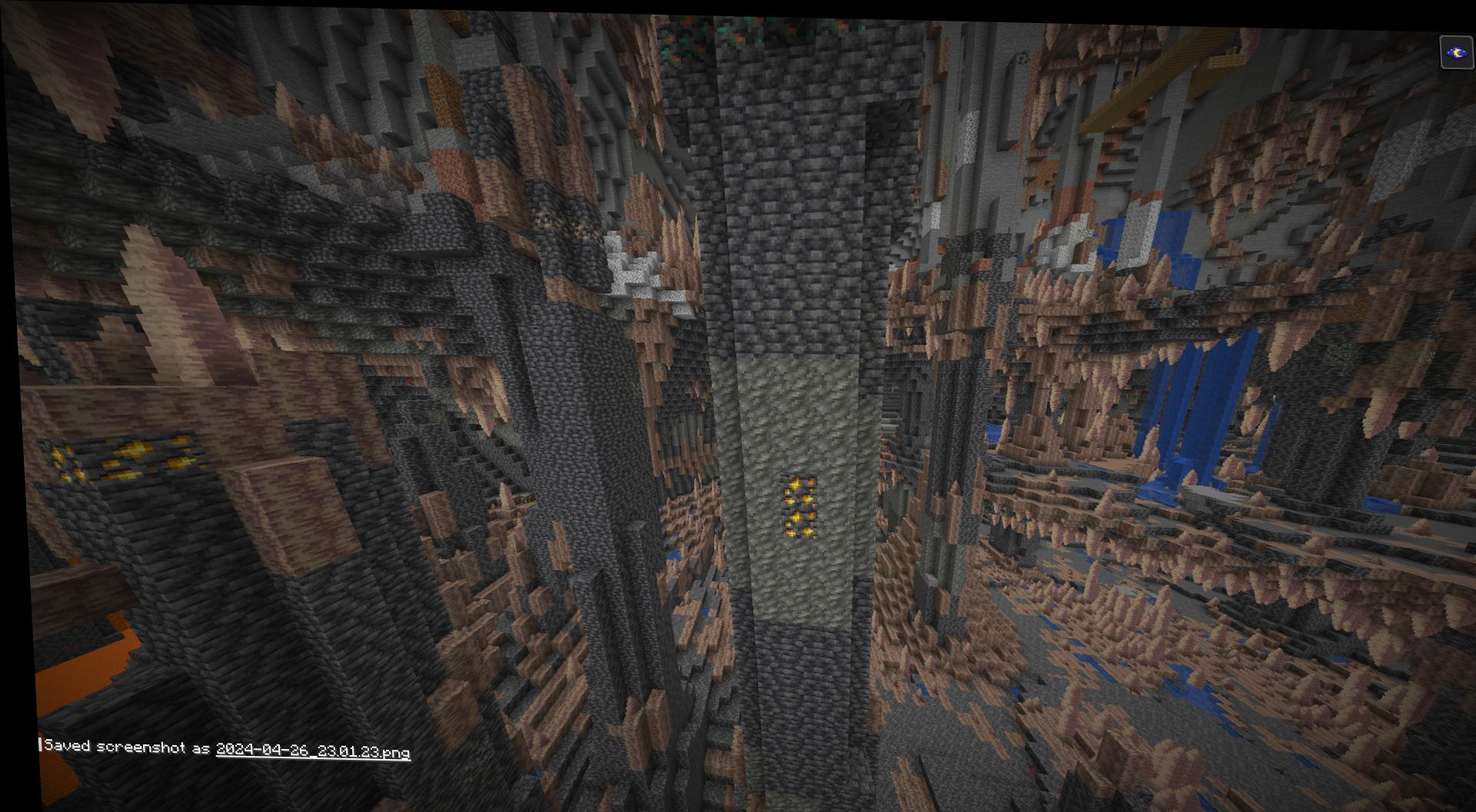gold ore: (78, 427, 207, 483), (771, 466, 820, 536), (29, 437, 78, 486)
iron ore: (525, 205, 567, 231), (569, 217, 603, 246)
